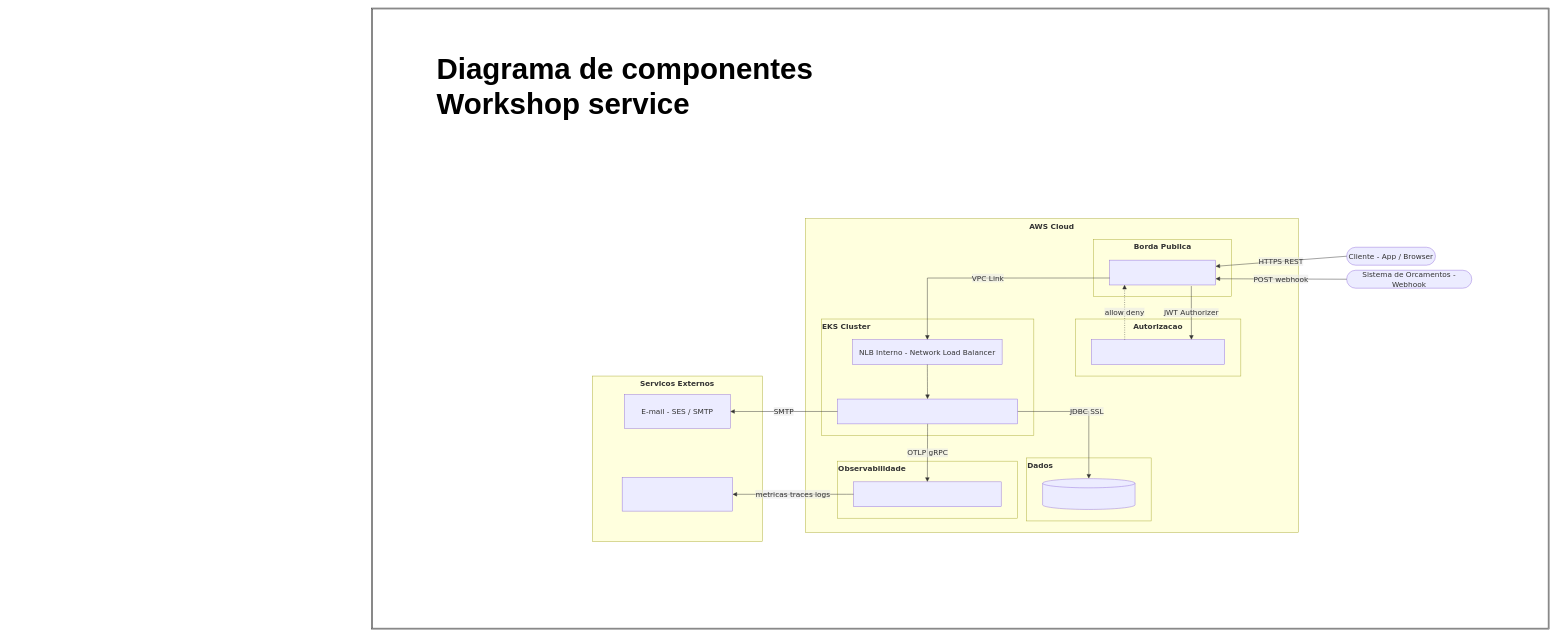
The diagram is 1557 pixels wide and 637 high, and some of its shapes have lost their labels. The centre of each missing label's shape, as x and y in pixels:
API Gateway - HTTP API: (1162,272)
Grafana Cloud - Dashboards e Alertas: (677,494)
Lambda JWT Validator - Java 21: (1158,352)
OTel Collector - metricas traces logs: (927,494)
RDS PostgreSQL - Multi-AZ: (1088,493)
workshop-service - Spring Boot 3.4.1 - Java 21: (927,411)
